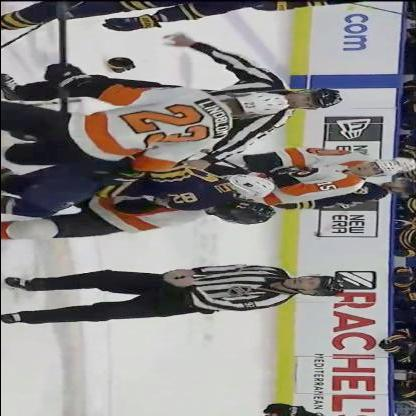non-Voilence: (1, 76, 293, 166), (1, 261, 343, 323)
voilence: (1, 159, 273, 238)
